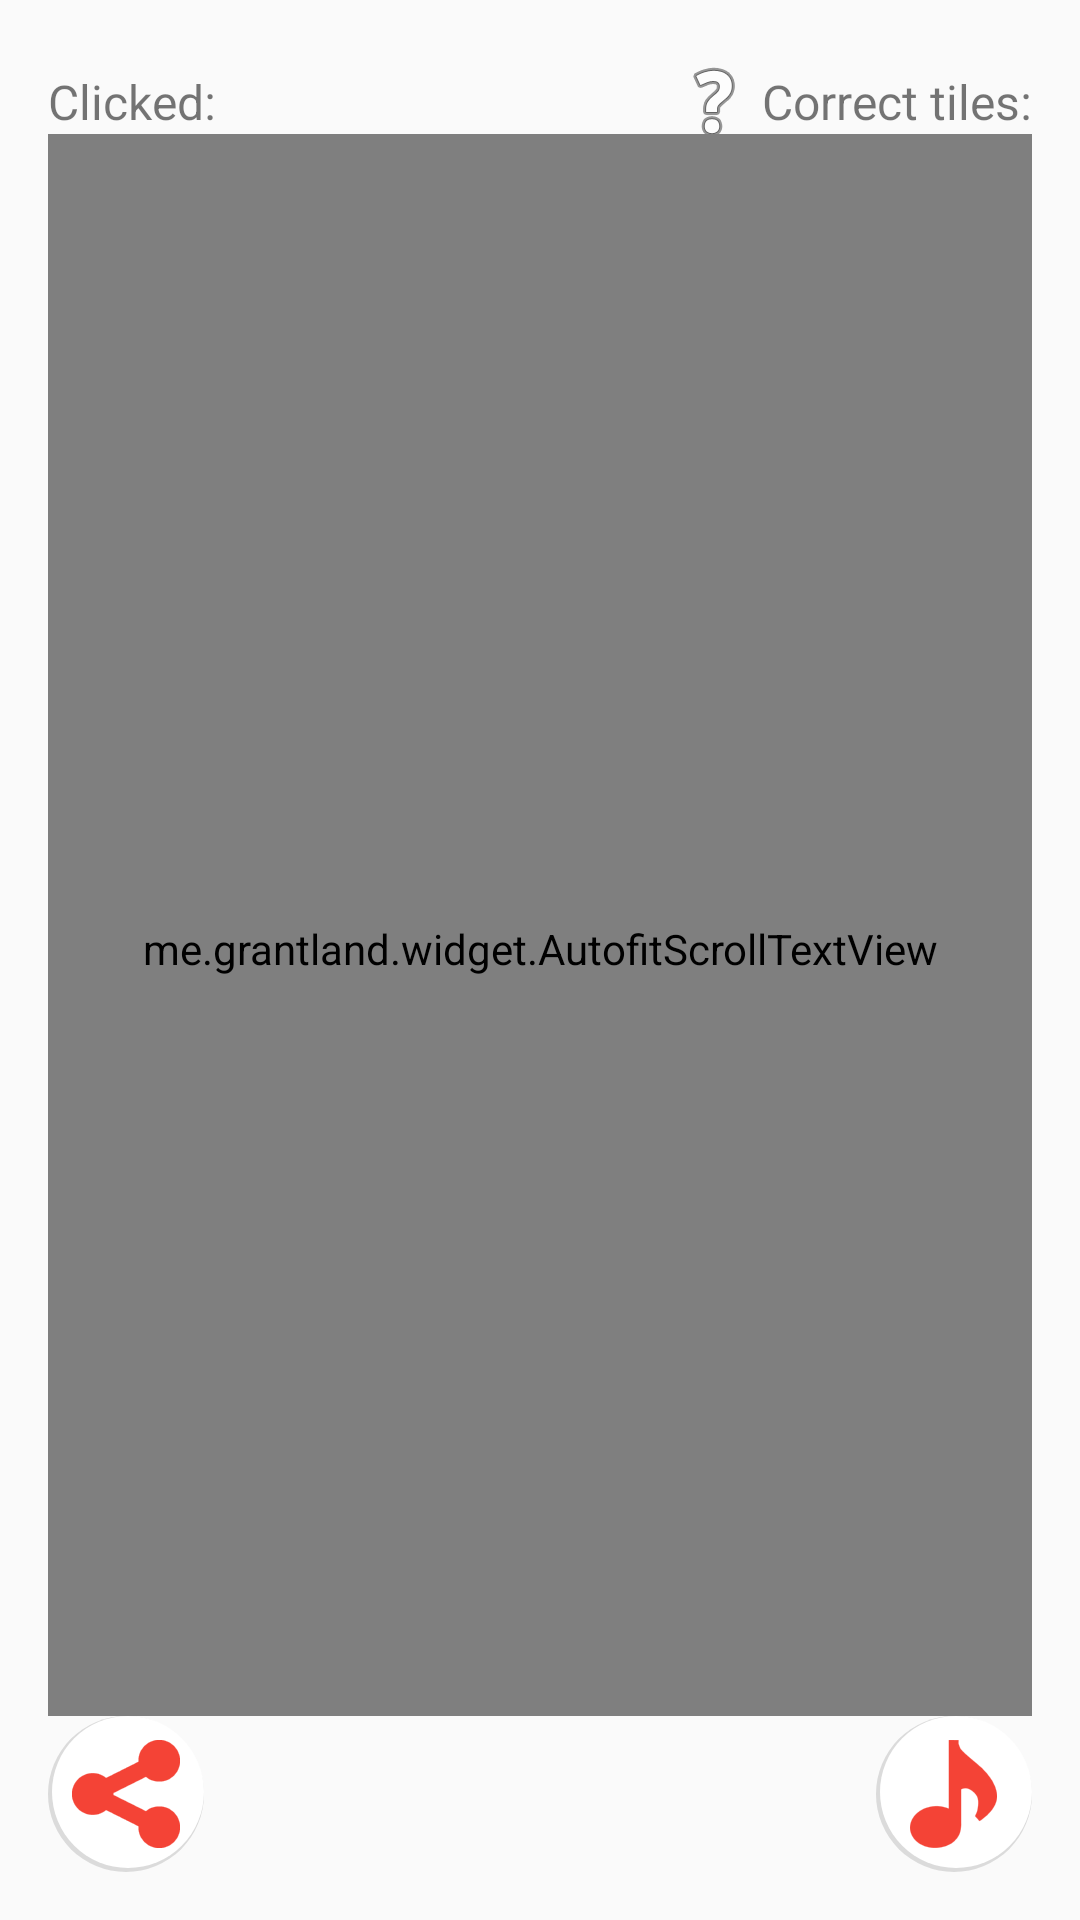

Where to tap for icons on this 1080px×1920px app screen, as (x=x, y=y):
music: (x=952, y=1796)
share: (x=124, y=1796)
